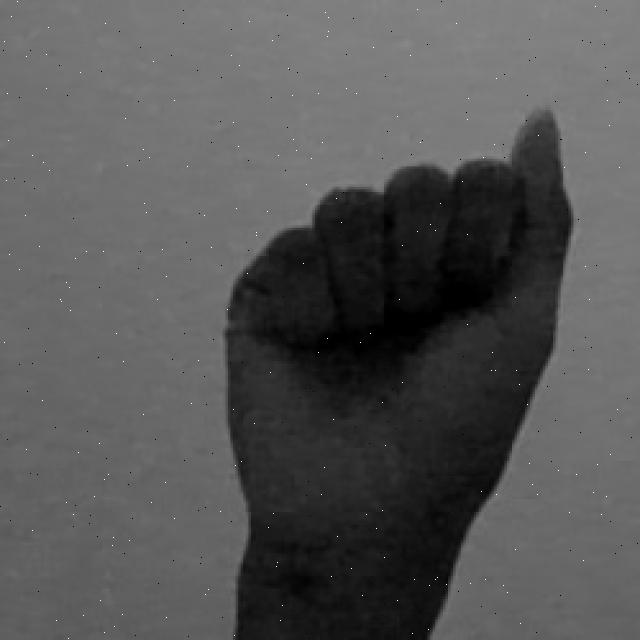A: (215, 100, 581, 640)
